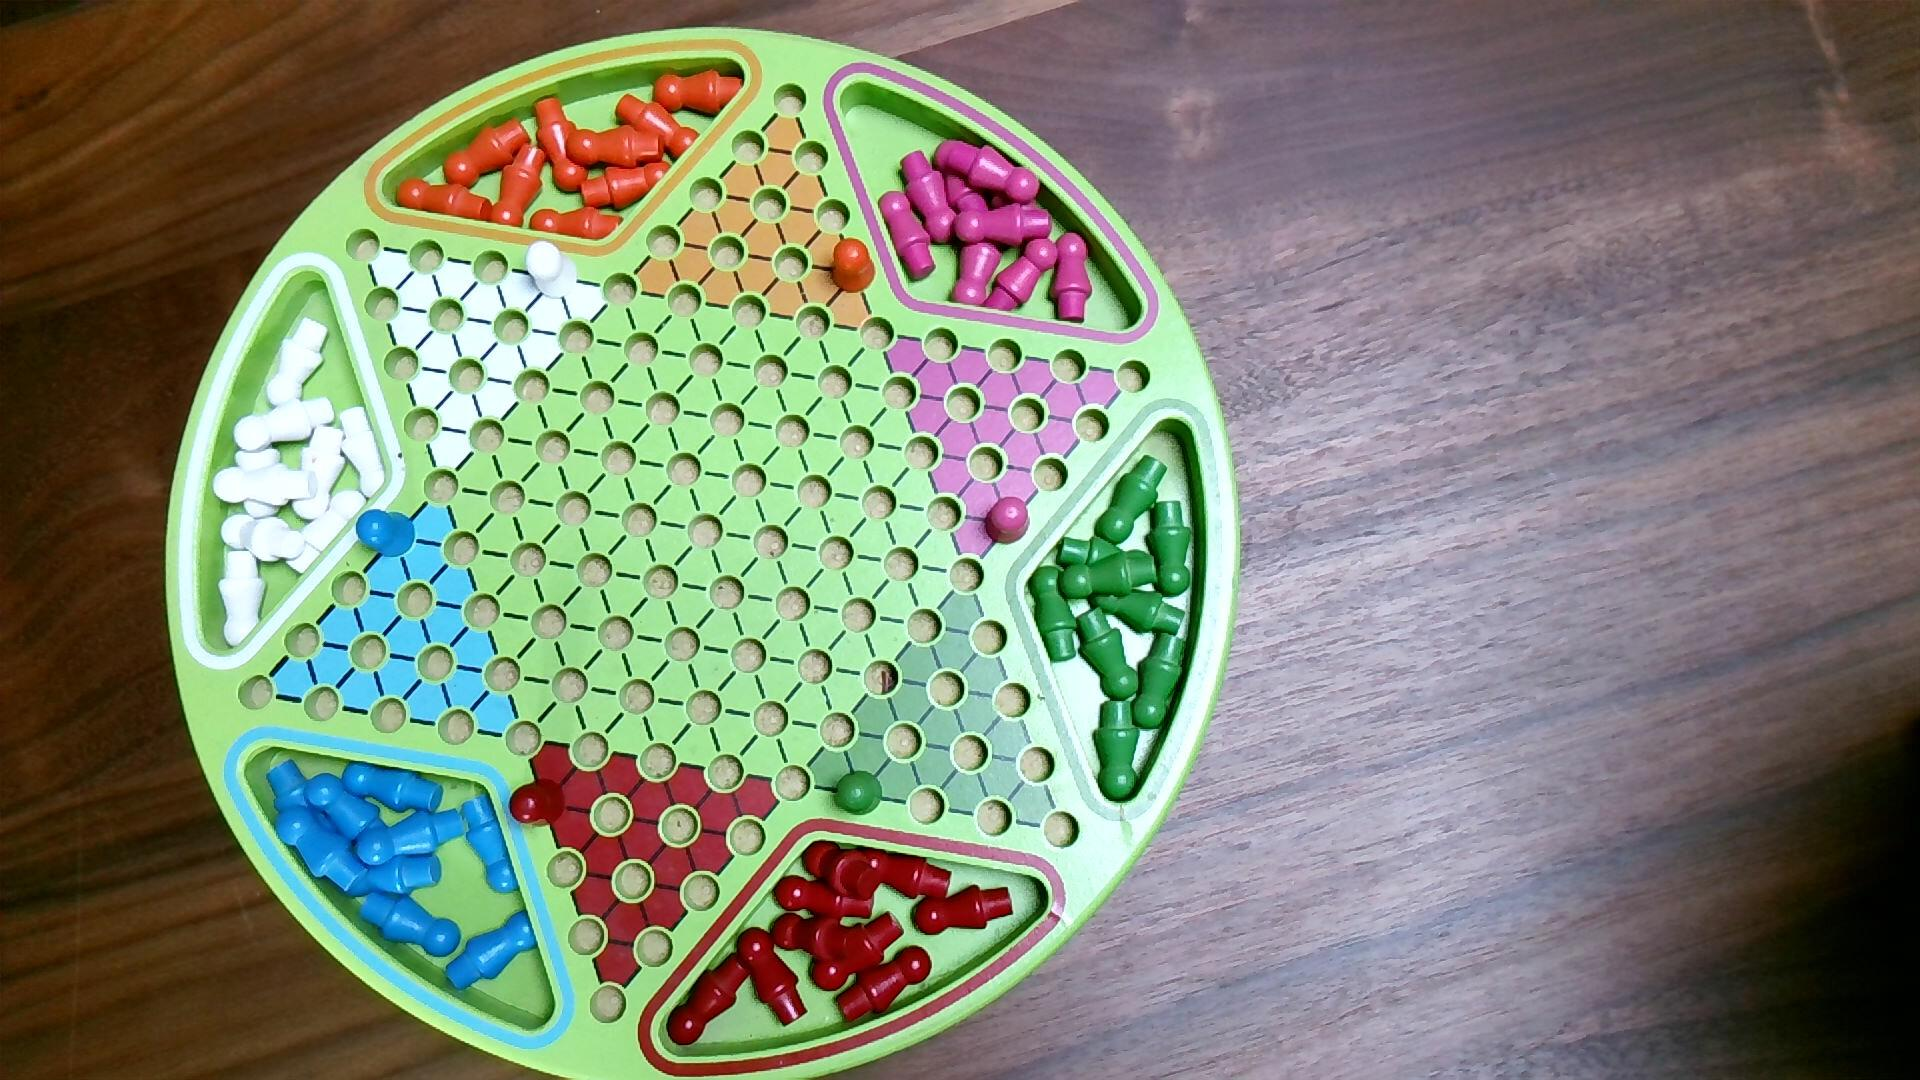B: (353, 506, 418, 560)
G: (832, 769, 885, 818)
O: (828, 235, 878, 295)
R: (508, 777, 568, 828)
R2: (984, 495, 1033, 546)
W: (524, 237, 579, 302)
